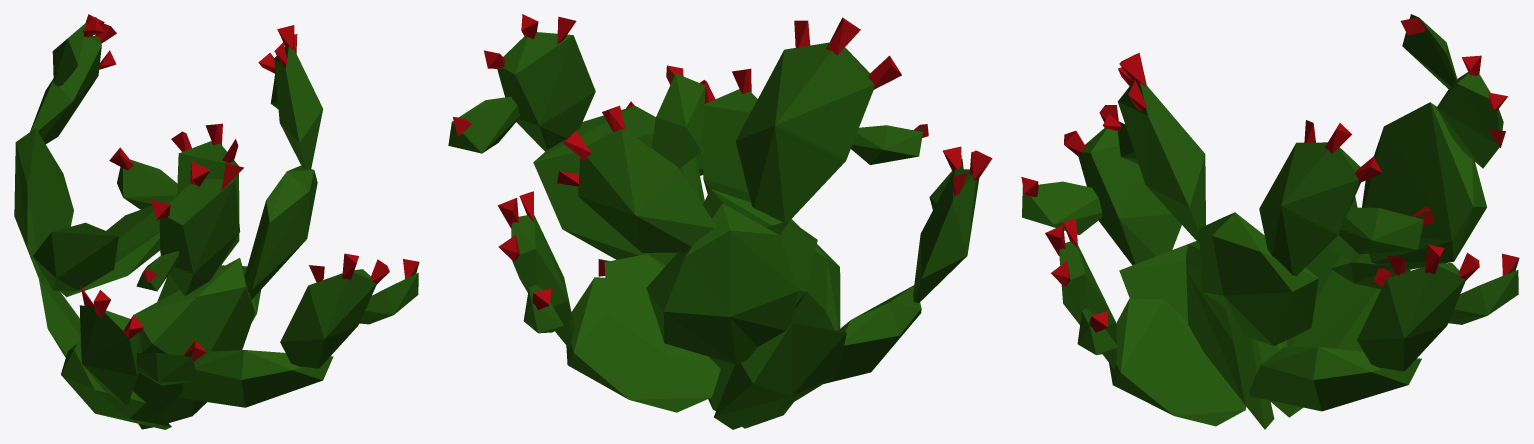
The model's file is Cactus_Prickley Pear_Large.fbx.
3 views of the same model, side by side, from view 1: azimuth 30°, elevation 25°; view 2: azimuth 150°, elevation 25°; view 3: azimuth 270°, elevation 25° (orthographic). The views are drawn at different scales.
Parts seen in each view (by area): view 1: Cactus_Prickley Pear_Large; view 2: Cactus_Prickley Pear_Large; view 3: Cactus_Prickley Pear_Large.
Part boxes in pixels (x1=…): Cactus_Prickley Pear_Large: x1=14, y1=14, x2=419, y2=429; Cactus_Prickley Pear_Large: x1=448, y1=14, x2=992, y2=429; Cactus_Prickley Pear_Large: x1=1021, y1=14, x2=1519, y2=429.
Size of the model in its own units: 83.17 by 86.63 by 96.94.
